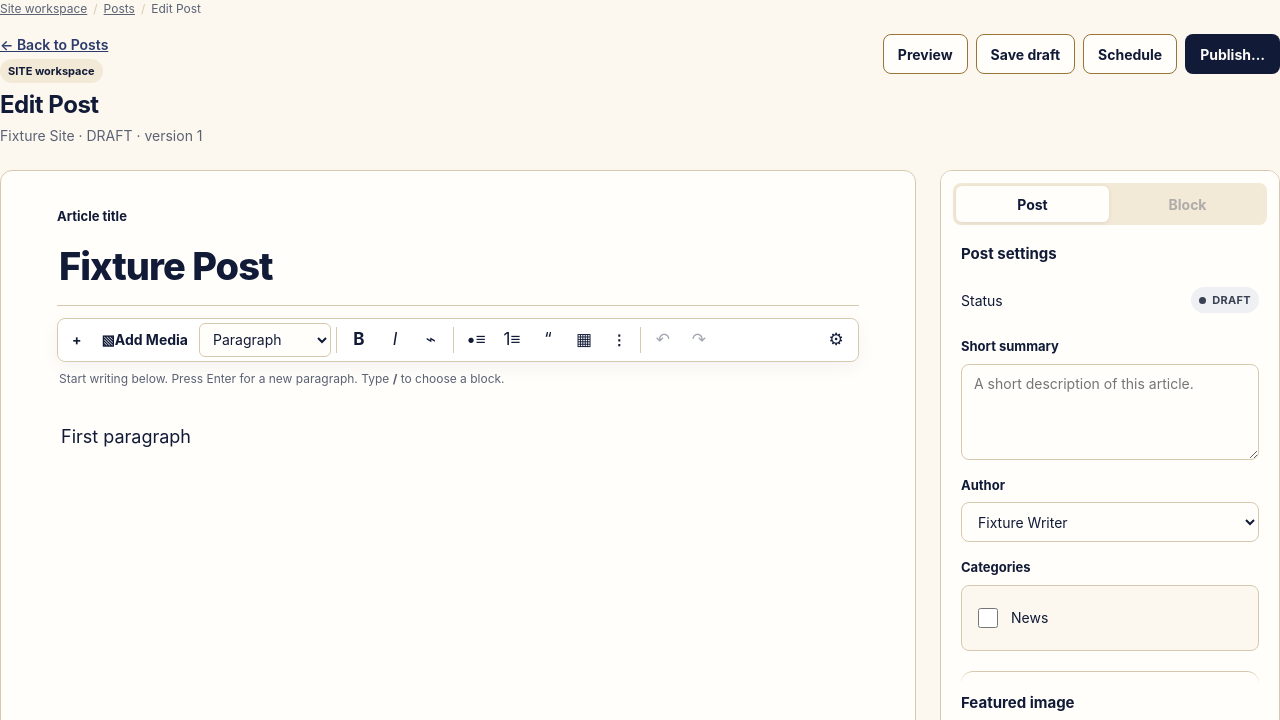
Scenario: new Embed fails closed without exposing provider internals
Click the button named "More": (619, 340) [603,322,635,356]
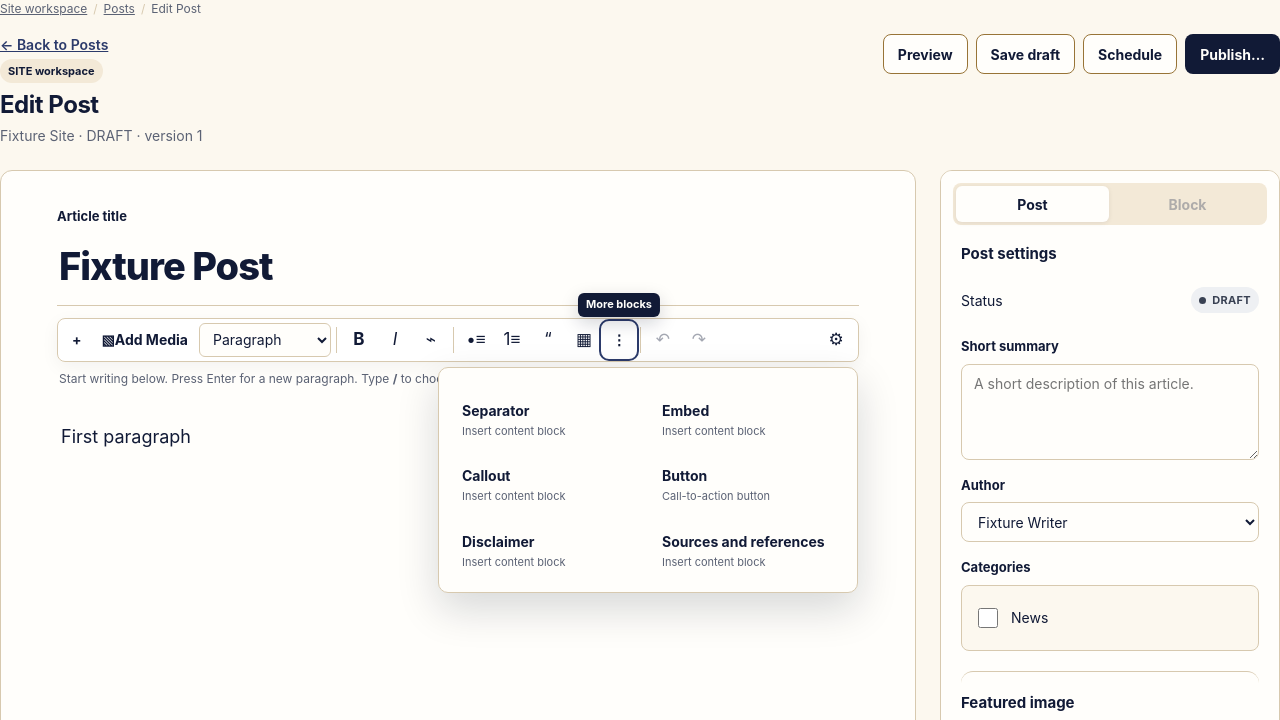
Click the button "Embed Insert content block": (748, 419) [651,390,845,449]
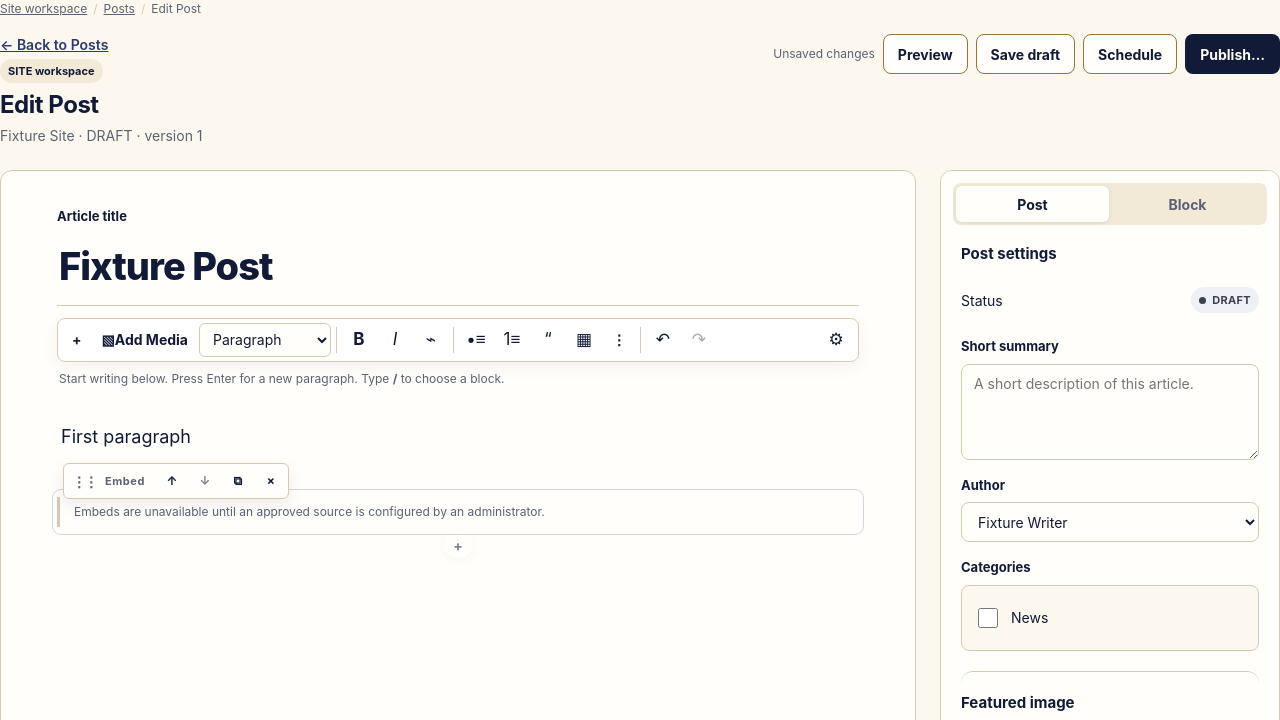
Now the text "Embeds are unavailable until an approved source is configured by an administrator." is shown, box [74,504,545,519]
